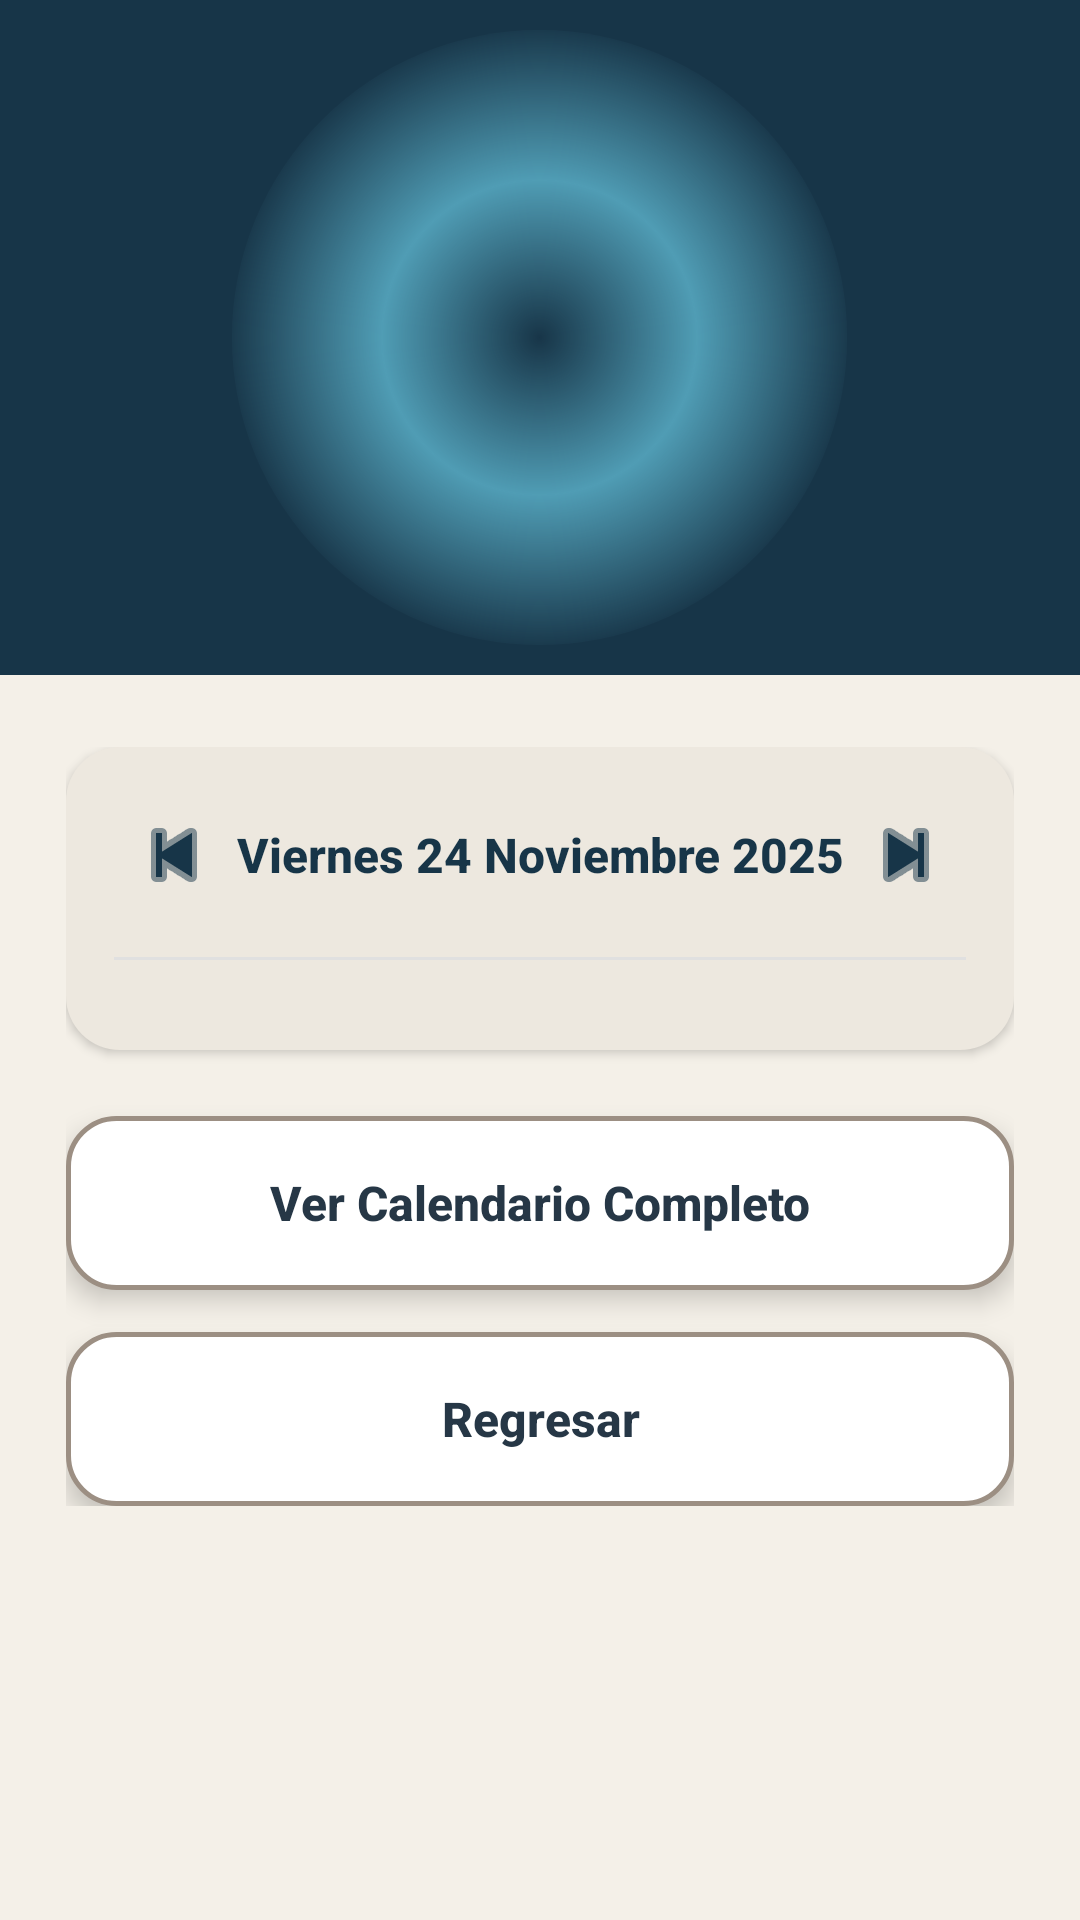

Screen size 1080px×1920px. Icon name, then its center in pixels as point (x, y):
next: point (906, 855)
previous: point (174, 855)
